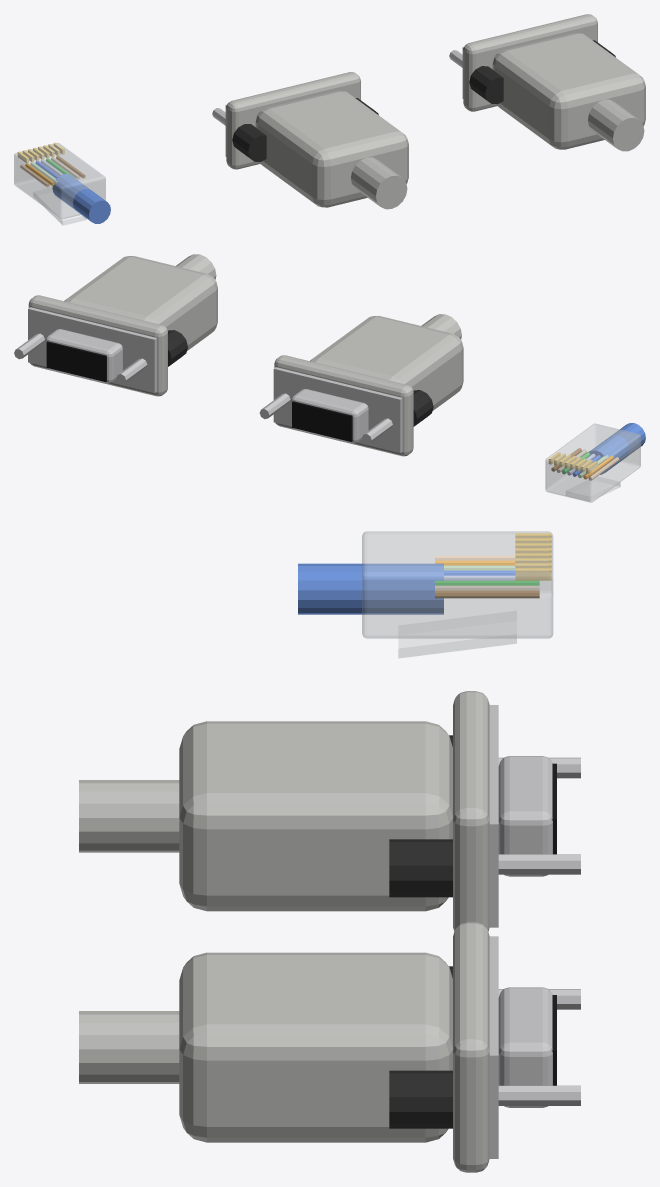
Rendered from cable_console.glb.
3 renders of one model, top to bottom at view 1: azimuth 30°, elevation 25°; view 2: azimuth 150°, elevation 25°; view 3: azimuth 270°, elevation 25°, orthographic. The views are drawn at different scales.
Parts seen in each view (by area): view 1: end_db9_b_mesh, end_db9_mesh, plug_body, variant_ok_mesh, latch; view 2: end_db9_mesh, end_db9_b_mesh, plug_body, variant_ok_mesh, latch; view 3: end_db9_b_mesh, end_db9_mesh, plug_body, variant_ok_mesh, latch.
Boxes of the visible parts, x1,y1,x2,y2 form: end_db9_b_mesh: (449,14,645,151); end_db9_mesh: (212,72,408,209); plug_body: (14,142,105,219); variant_ok_mesh: (20,156,110,223); latch: (33,187,86,225); end_db9_mesh: (259,314,463,456); end_db9_b_mesh: (14,254,217,396); plug_body: (545,423,640,502); variant_ok_mesh: (551,423,645,480); latch: (566,477,620,501); end_db9_b_mesh: (79,922,580,1172); end_db9_mesh: (79,691,580,931); plug_body: (362,531,553,638); variant_ok_mesh: (298,555,539,614); latch: (398,611,516,658).
Size of the model in its own units: 0.1425 by 0.016 by 0.055.
